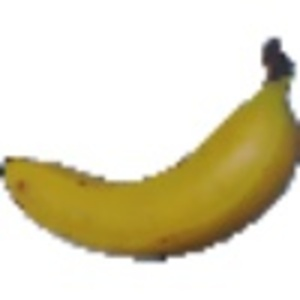banana: (1, 34, 297, 266)
